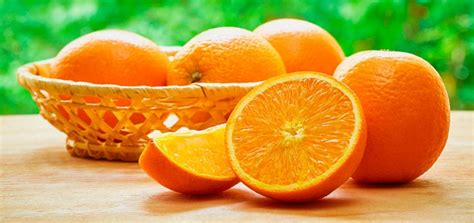orange: (324, 47, 451, 187), (50, 28, 173, 93), (167, 25, 290, 89), (250, 16, 349, 77)
